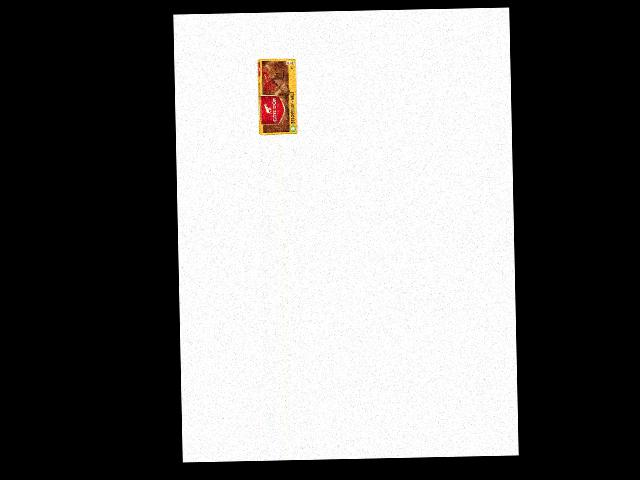chocolate: (255, 56, 304, 135)
